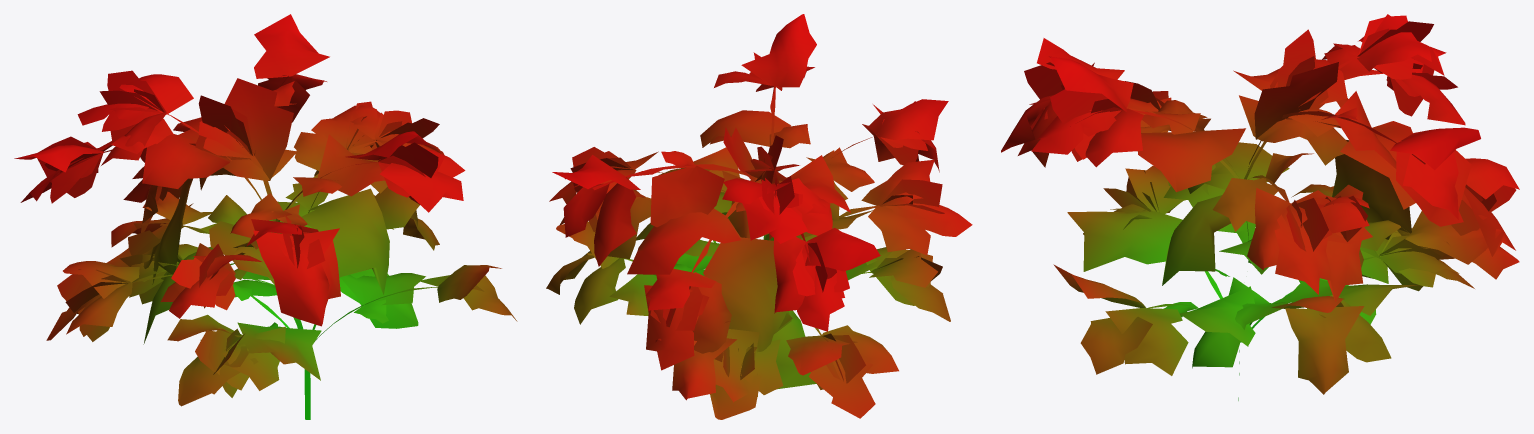
The model's file is Var6_LOD3.fbx.
3 views of the same model, side by side, from view 1: azimuth 30°, elevation 25°; view 2: azimuth 150°, elevation 25°; view 3: azimuth 270°, elevation 25° (orthographic). The views are drawn at different scales.
Parts seen in each view (by area): view 1: _rc1f_Var6_LOD3; view 2: _rc1f_Var6_LOD3; view 3: _rc1f_Var6_LOD3.
Boxes of the visible parts, box(x1,y1,x2,y2) form: _rc1f_Var6_LOD3: box(14, 14, 517, 419); _rc1f_Var6_LOD3: box(546, 14, 972, 419); _rc1f_Var6_LOD3: box(1001, 14, 1519, 400).
Bounding box in the file's own units: 86.97 × 72.8 × 91.49.
